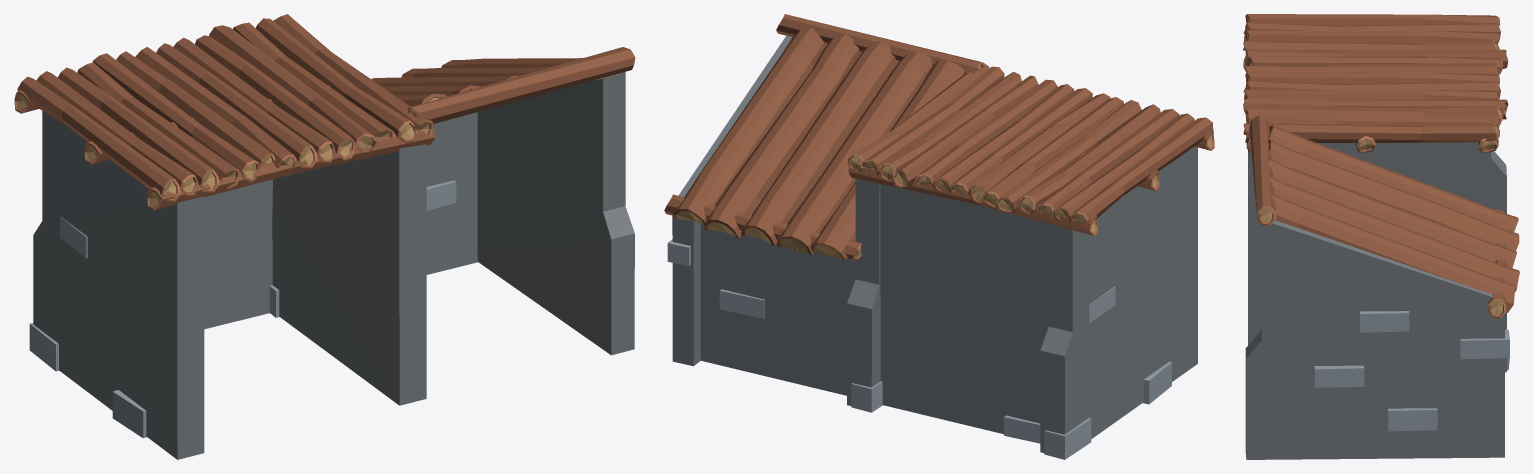
The model's file is ice_cave_building.FBX.
3 views of the same model, side by side, from view 1: azimuth 30°, elevation 25°; view 2: azimuth 150°, elevation 25°; view 3: azimuth 270°, elevation 25° (orthographic). The views are drawn at different scales.
Visible parts, largest first — view 1: ice_cave_building, ice_cave_wood; view 2: ice_cave_building, ice_cave_wood; view 3: ice_cave_building, ice_cave_wood.
Boxes of the visible parts, left/top/right/bottom form: ice_cave_building: left=29, top=72, right=634, bottom=459; ice_cave_wood: left=14, top=14, right=635, bottom=210; ice_cave_building: left=667, top=35, right=1197, bottom=459; ice_cave_wood: left=664, top=14, right=1214, bottom=260; ice_cave_building: left=1245, top=142, right=1509, bottom=459; ice_cave_wood: left=1243, top=14, right=1519, bottom=318.
Bounding box in the file's own units: 11.87 × 6.81 × 6.66.
1 material, 1 textured.
